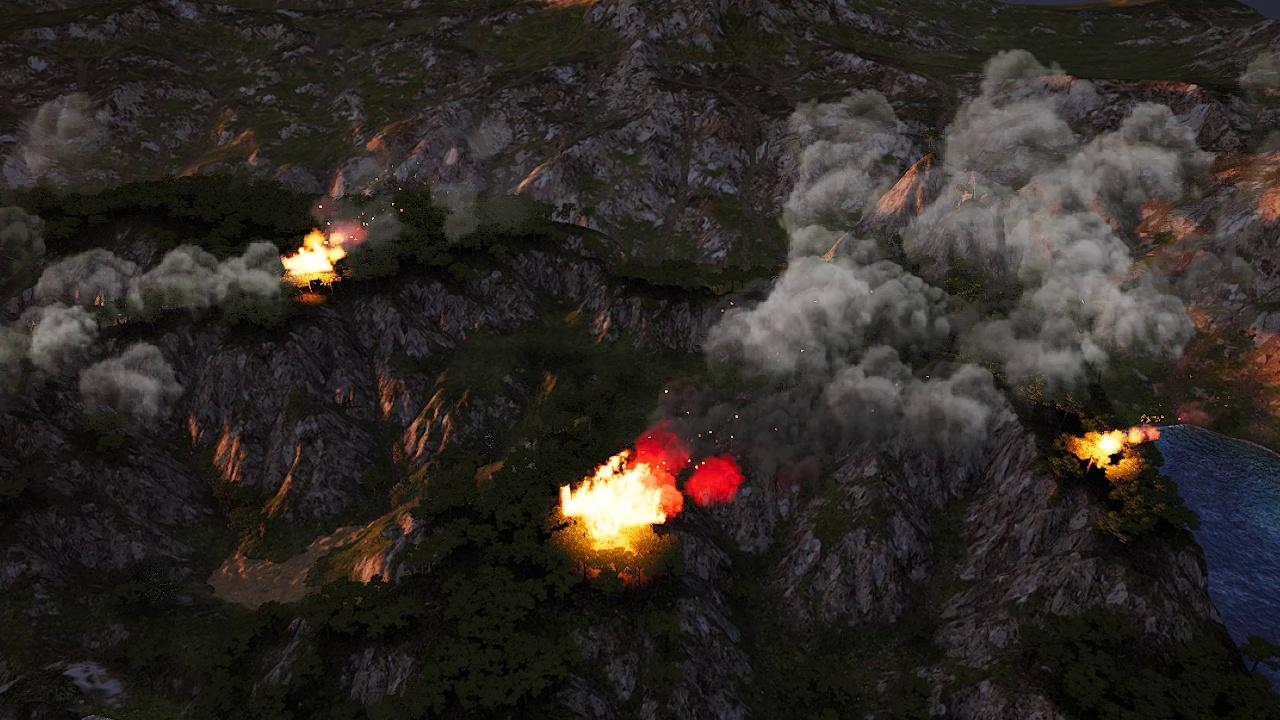fire: (557, 452, 678, 553), (284, 231, 353, 283), (1079, 423, 1153, 464)
smoke: (694, 44, 1203, 440), (25, 236, 283, 428), (428, 179, 484, 246), (688, 454, 744, 513)
